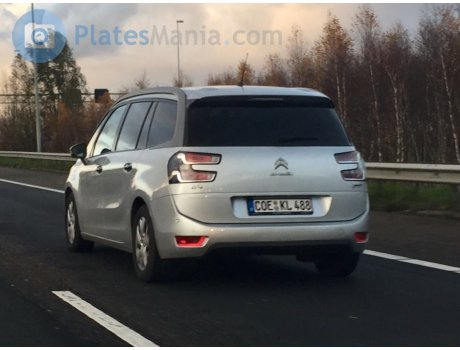License Plates: (249, 197, 312, 208)
